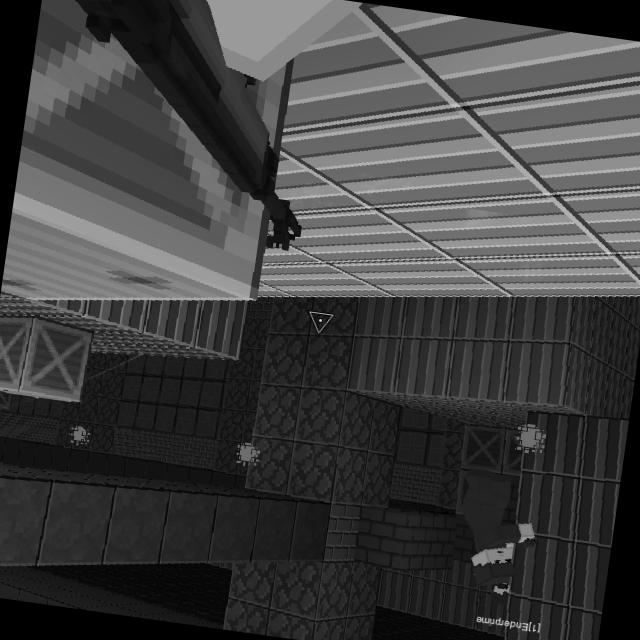enemy: (450, 468, 544, 594)
